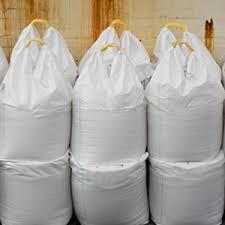Plastic bag: (2, 16, 225, 225)
